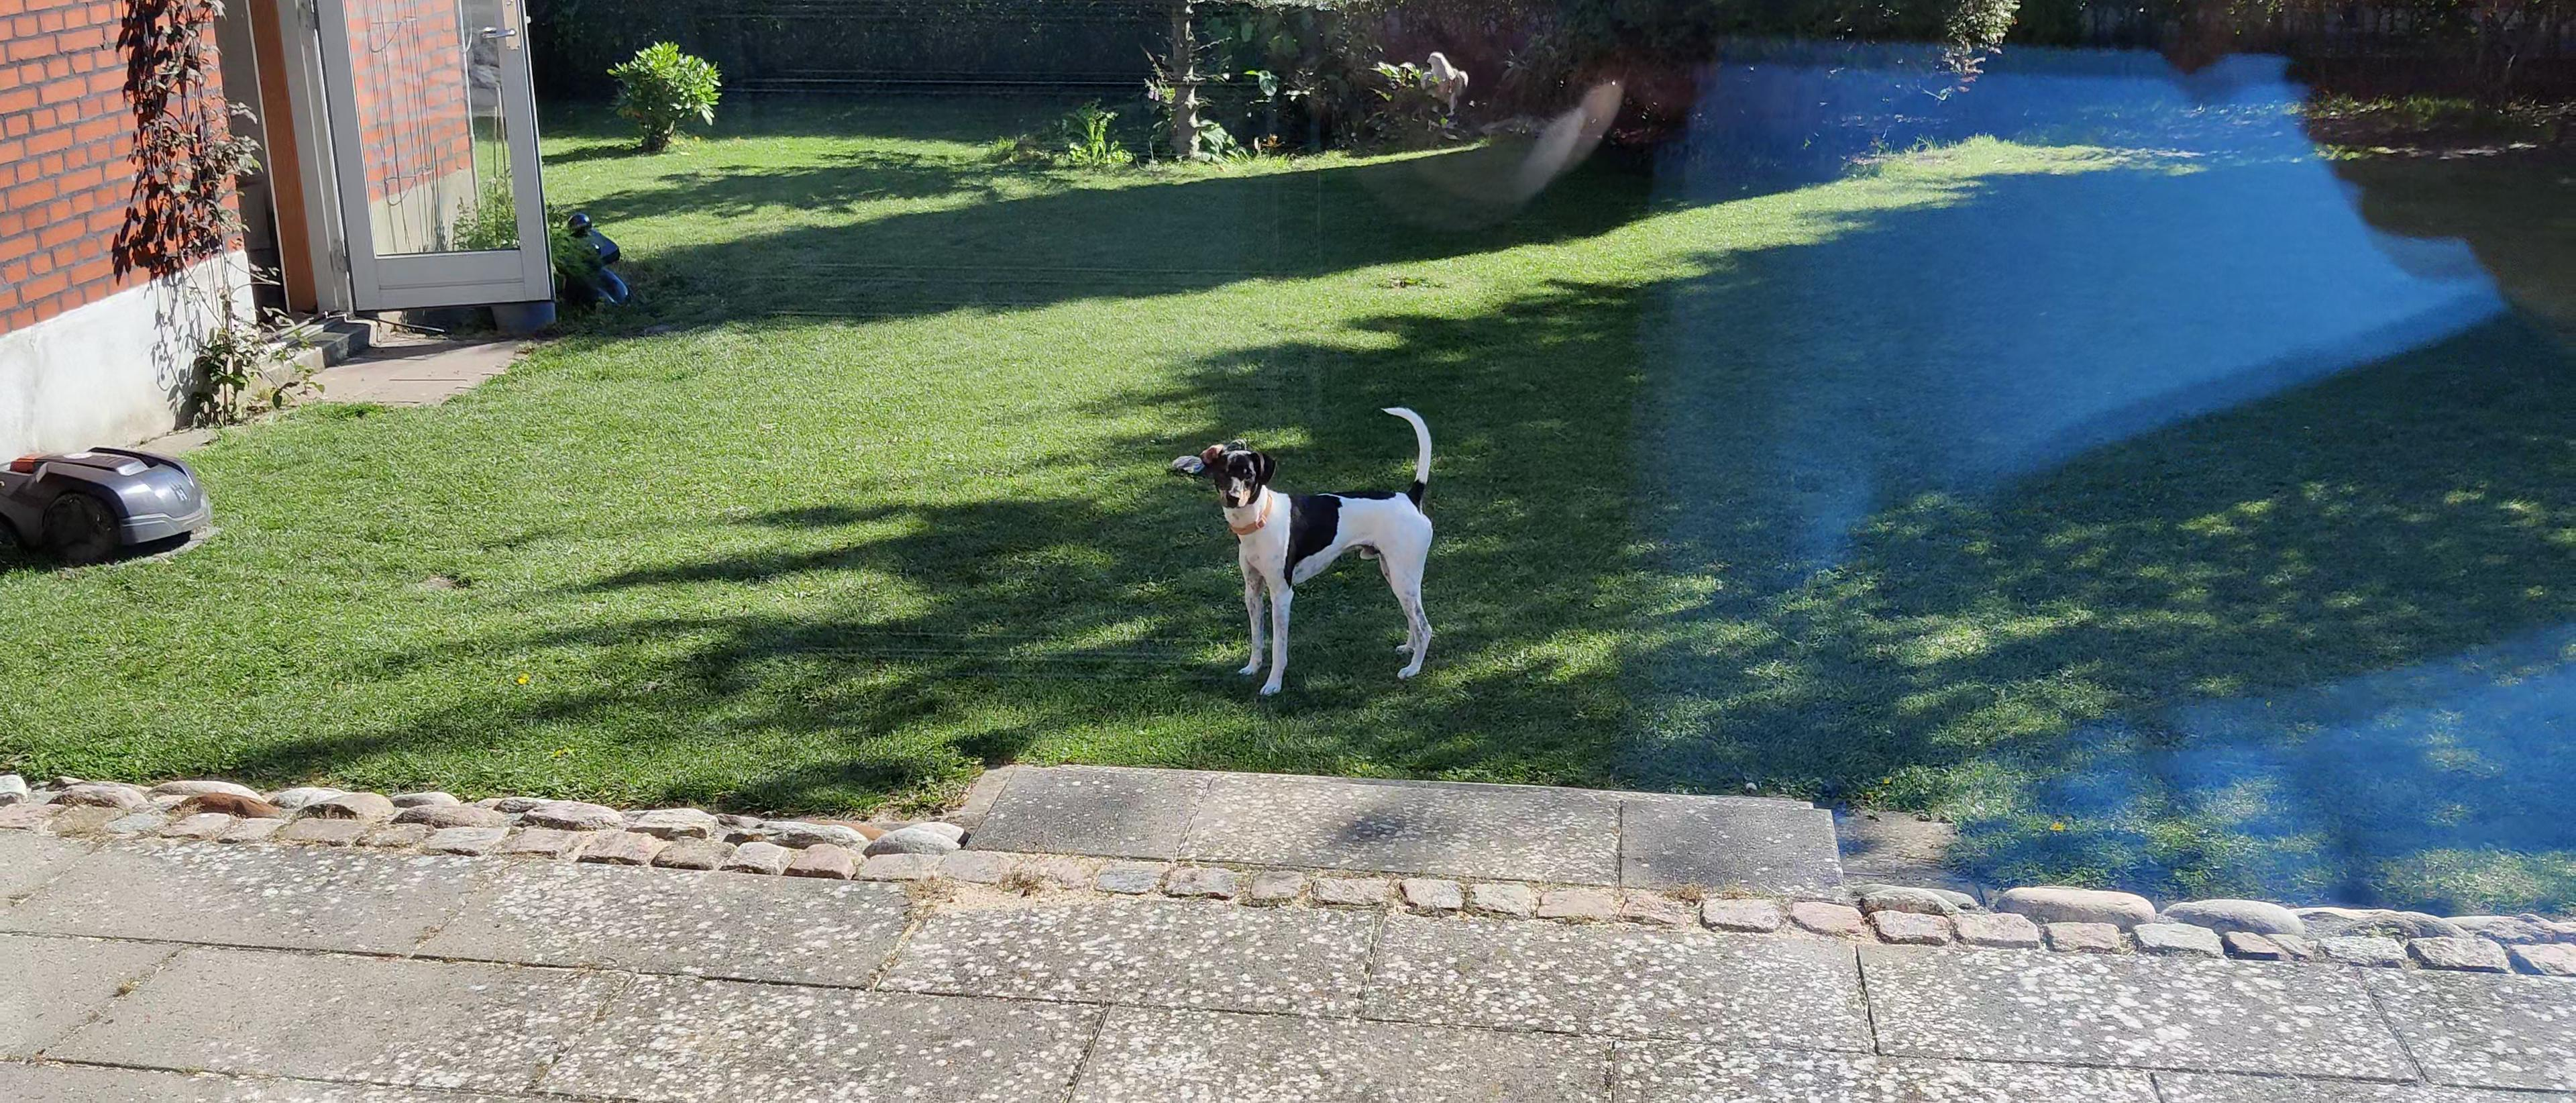Dog: (1193, 396, 1444, 702)
